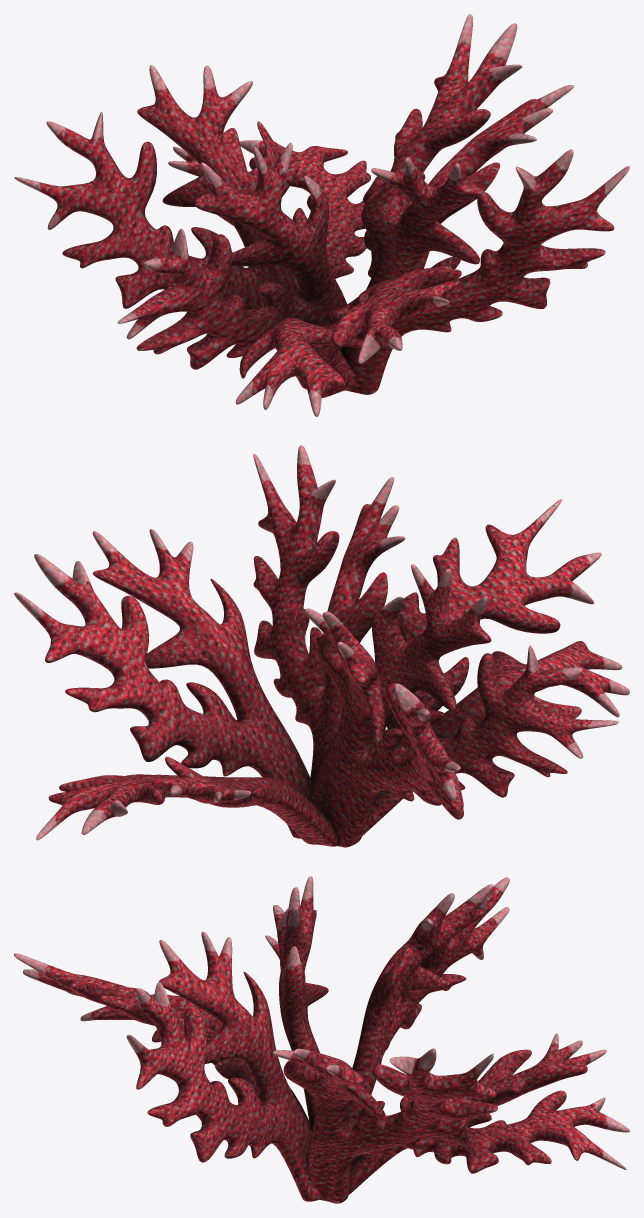
File: coral.glb
3 views of the same model, one above another, from view 1: azimuth 30°, elevation 25°; view 2: azimuth 150°, elevation 25°; view 3: azimuth 270°, elevation 25° (orthographic). The views are drawn at different scales.
Visible parts, largest first — view 1: 10010_Coral_v1_L3.001; view 2: 10010_Coral_v1_L3.001; view 3: 10010_Coral_v1_L3.001.
Boxes of the visible parts, <box> form: 10010_Coral_v1_L3.001: <box>14,14,629,416</box>; 10010_Coral_v1_L3.001: <box>14,445,629,847</box>; 10010_Coral_v1_L3.001: <box>14,876,629,1203</box>.
Bounding box in the file's own units: 70.26 × 40.05 × 82.9.
Materials: 1 (1 with a texture image).
